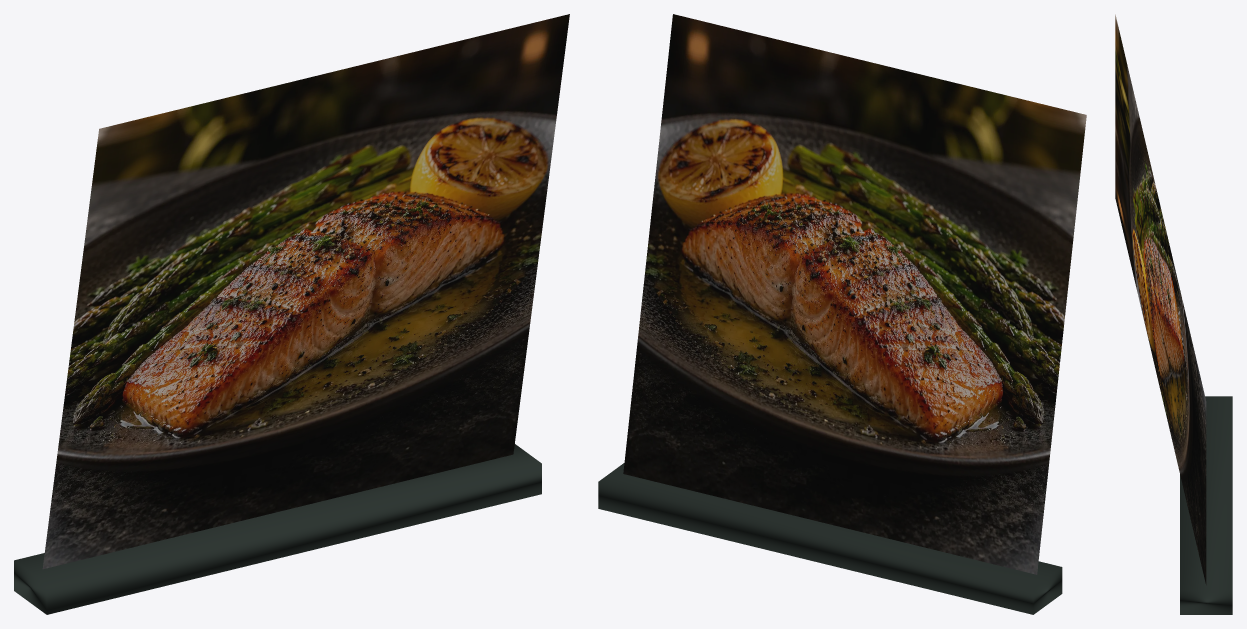
File: salmon.glb
The picture shows the model from 3 angles, left to right: view 1: azimuth 30°, elevation 25°; view 2: azimuth 150°, elevation 25°; view 3: azimuth 270°, elevation 25°; orthographic projection. The views are drawn at different scales.
Parts seen in each view (by area): view 1: Salmon photo, Tabletop base; view 2: Salmon photo, Tabletop base; view 3: Salmon photo, Tabletop base.
Part boxes in pixels (left/top/right/bottom): Salmon photo: left=42, top=14, right=569, bottom=569; Tabletop base: left=14, top=444, right=541, bottom=614; Salmon photo: left=623, top=14, right=1086, bottom=574; Tabletop base: left=598, top=463, right=1062, bottom=614; Salmon photo: left=1115, top=14, right=1206, bottom=584; Tabletop base: left=1180, top=396, right=1232, bottom=614.
Size of the model in its own units: 0.305 by 0.3017 by 0.0778.
2 materials, 1 textured.
